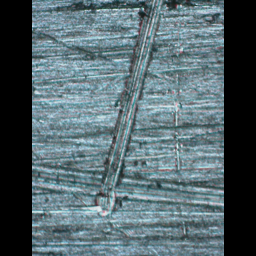d: (89, 0, 179, 221)
